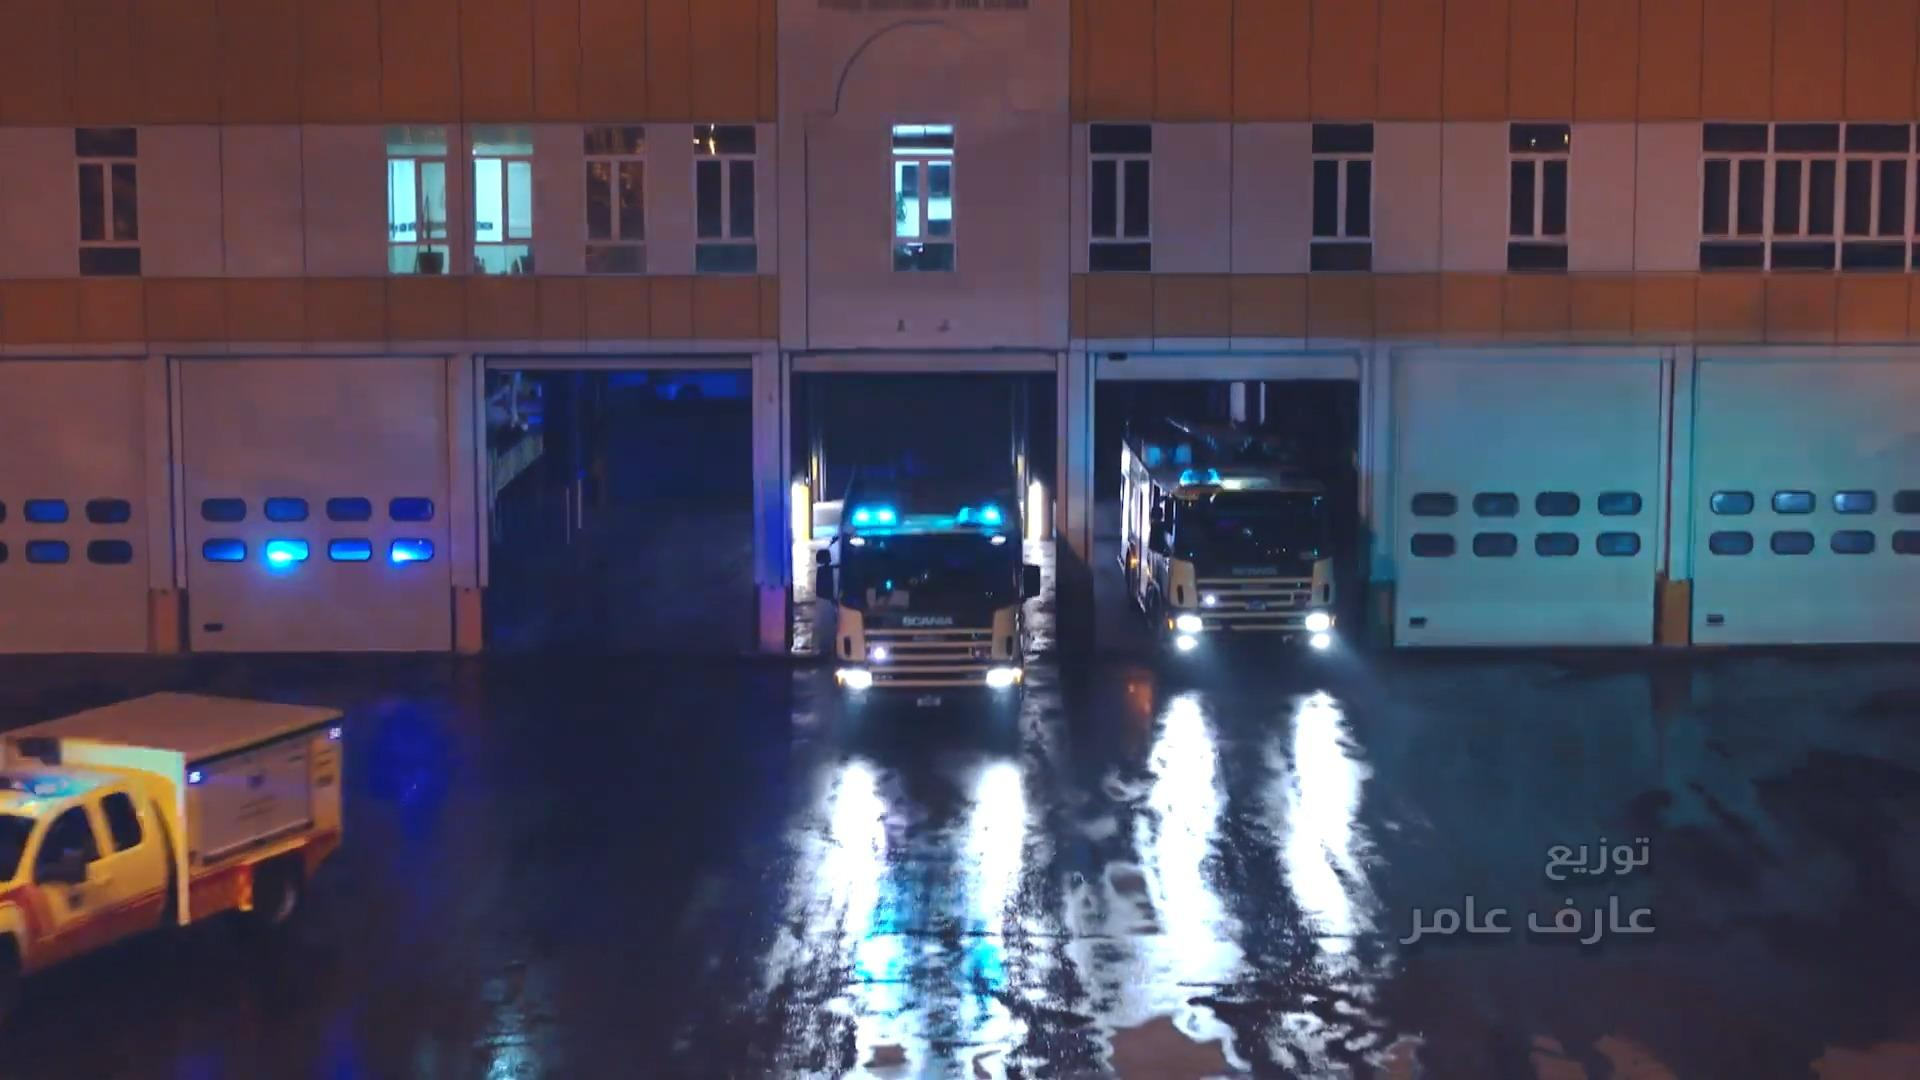firetruck_off: (0, 691, 345, 1018)
firetruck_on: (816, 458, 1042, 732), (1122, 411, 1340, 669)
